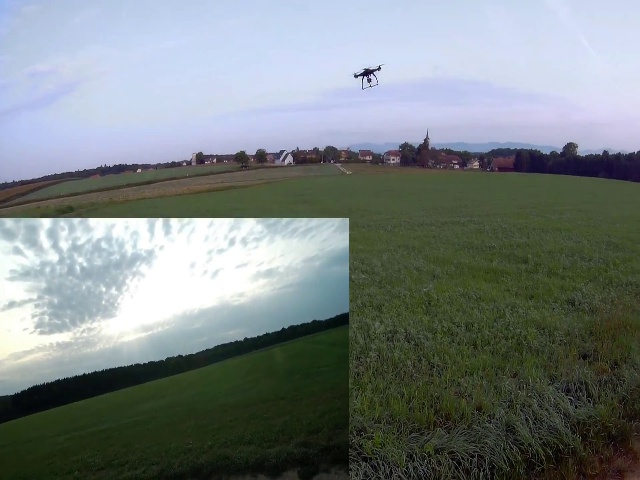drone: (349, 55, 386, 92)
